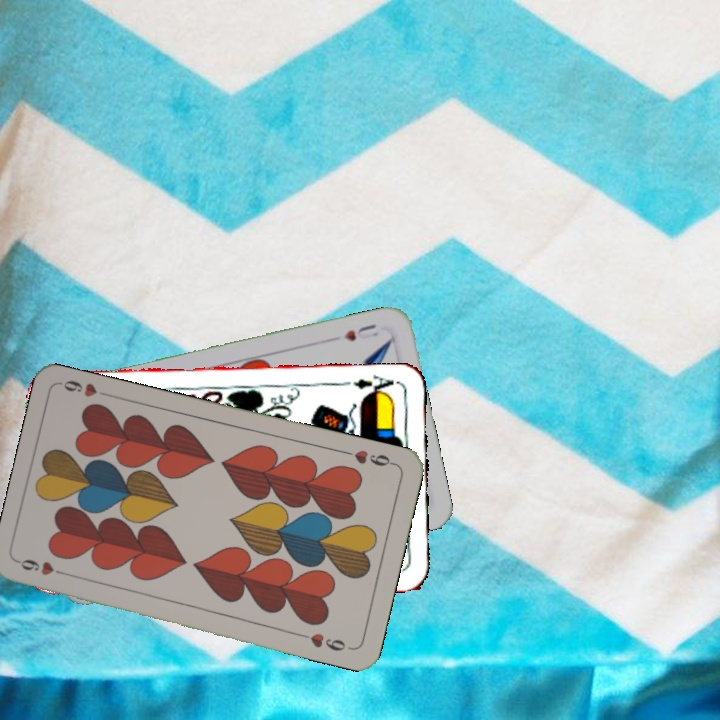EA: (349, 371, 400, 398)
H9: (16, 555, 74, 579), (340, 446, 398, 469)
HU: (339, 320, 381, 344)
